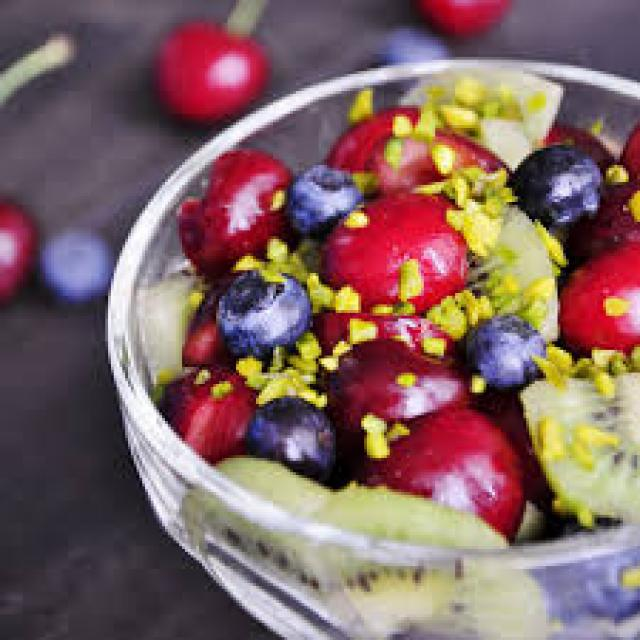organic waste: (367, 404, 532, 532), (509, 358, 637, 520), (336, 108, 512, 216), (407, 68, 566, 182), (165, 145, 293, 282), (458, 188, 557, 350), (333, 316, 455, 446), (318, 205, 469, 307), (338, 469, 524, 549), (154, 2, 268, 116), (216, 446, 358, 524), (219, 262, 330, 361), (154, 356, 250, 458), (503, 142, 603, 236), (148, 288, 247, 376), (452, 310, 560, 390), (558, 250, 637, 358), (282, 148, 364, 242), (248, 396, 342, 472), (37, 225, 108, 307), (569, 174, 637, 248), (416, 0, 526, 40), (376, 20, 452, 77), (0, 196, 34, 313), (552, 125, 614, 182), (620, 117, 637, 202)
